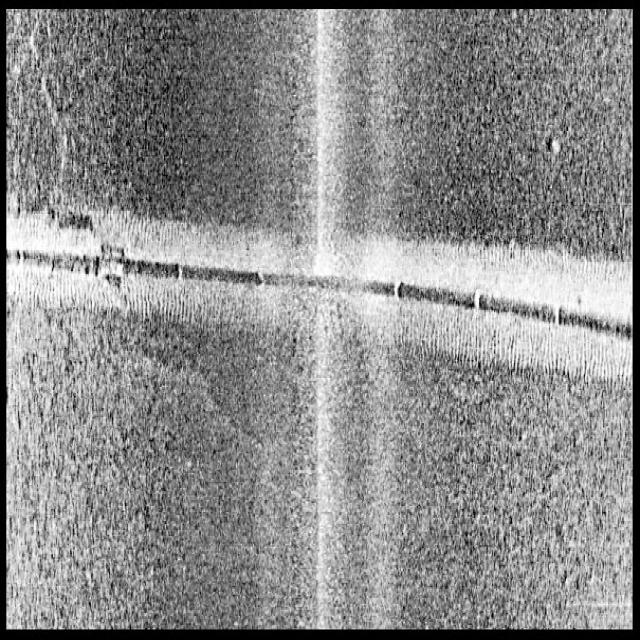other: (0, 221, 626, 351)
